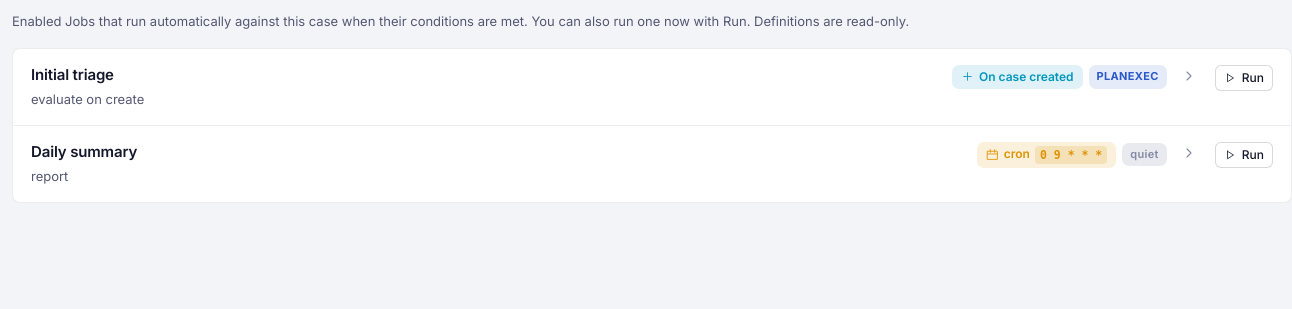
Test: CaseJobList › hides the prompt until a row is expanded, then toggles it
The image size is (1292, 309).
Check: the text "TRIAGE PROMPT BODY" is not shown
Step 1. Click the button "Initial triage evaluate on create On case created planexec" → (72, 74), box [13,48,1215,125]
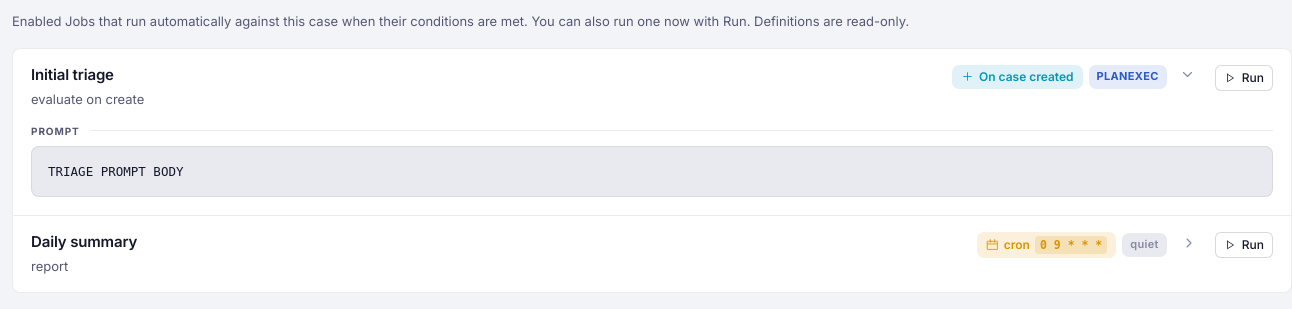
Check: the text "TRIAGE PROMPT BODY" is shown, box [31,146,1273,197]
Check: the button "Initial triage evaluate on create On case created planexec" is expanded
Step 2. Click the button "Initial triage evaluate on create On case created planexec" → (72, 74), box [13,48,1215,125]
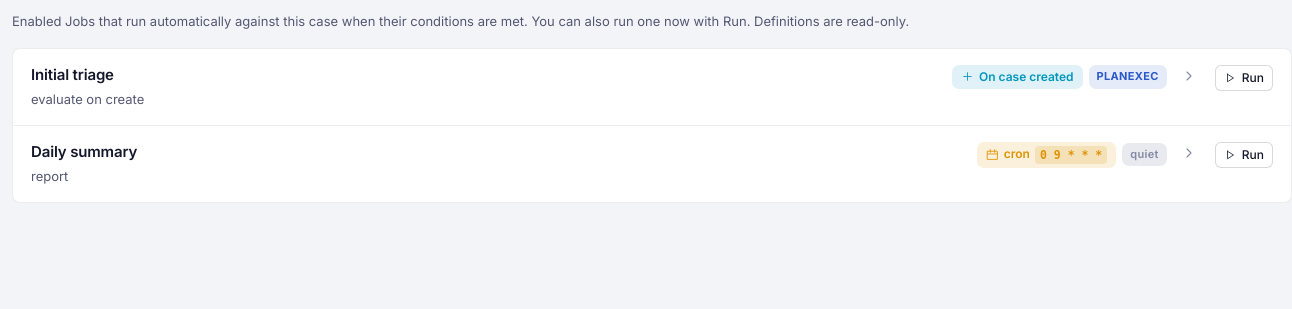
Check: the text "TRIAGE PROMPT BODY" is gone
